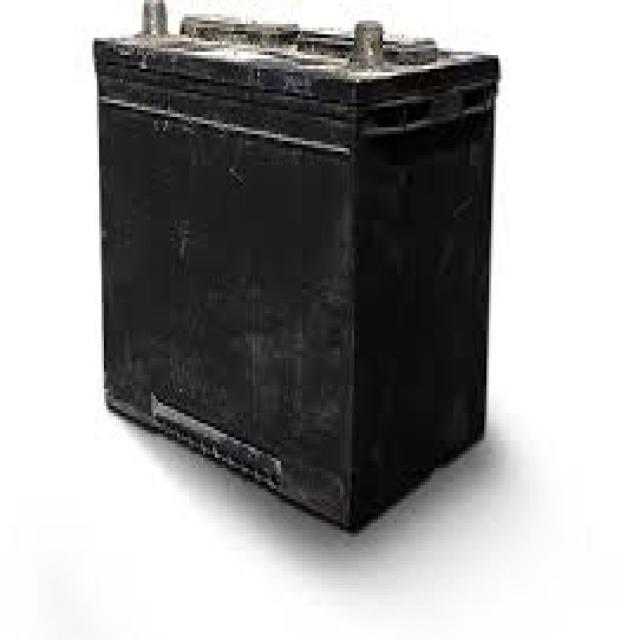non-organic waste: (90, 0, 505, 538)
